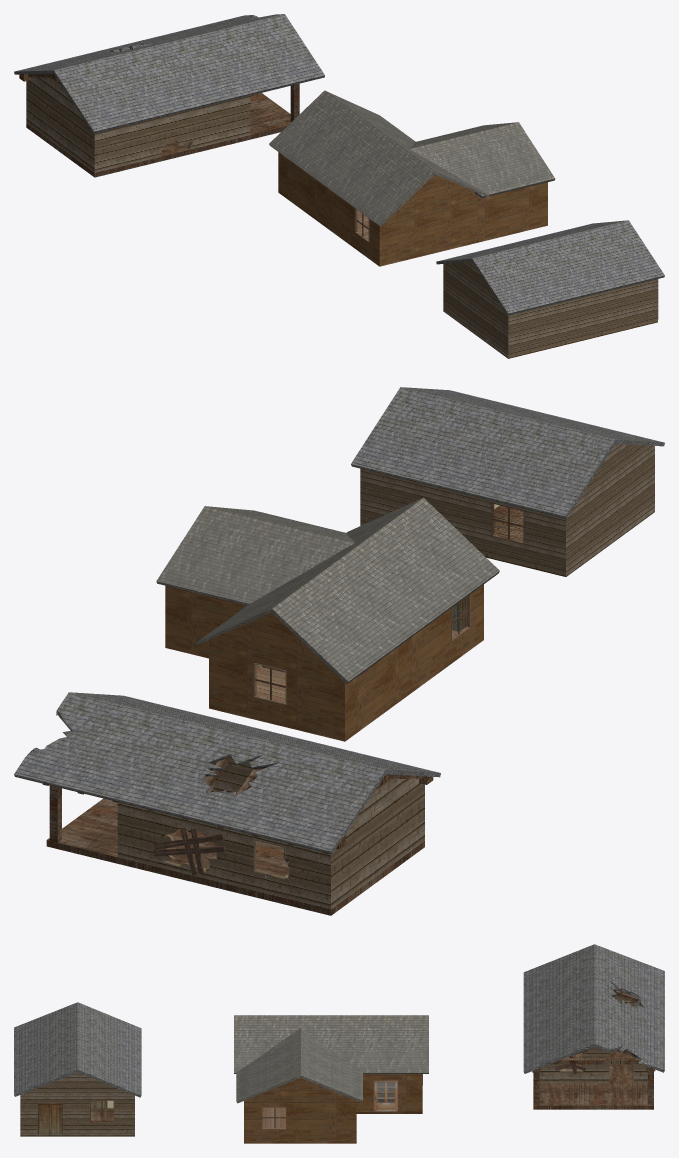
3 renders of one model, top to bottom at view 1: azimuth 30°, elevation 25°; view 2: azimuth 150°, elevation 25°; view 3: azimuth 270°, elevation 25°, orthographic. The views are drawn at different scales.
Visible parts, largest first — view 1: Destroyed house, roof.003, house002, roof, house, floor003, floor; view 2: Destroyed house, roof.003, roof, house002, house, floor003, floor, planks002; view 3: Destroyed house, roof.003, roof, house002, house, floor003, door.003, door, floor.
Part boxes in pixels (x1=…): Destroyed house: x1=14, y1=14, x2=324, y2=177; roof.003: x1=269, y1=90, x2=555, y2=226; house002: x1=278, y1=152, x2=547, y2=263; roof: x1=436, y1=220, x2=664, y2=315; house: x1=443, y1=261, x2=658, y2=355; floor003: x1=278, y1=190, x2=547, y2=266; floor: x1=443, y1=309, x2=657, y2=358; Destroyed house: x1=14, y1=692, x2=440, y2=915; roof.003: x1=156, y1=497, x2=499, y2=684; roof: x1=351, y1=387, x2=664, y2=518; house002: x1=165, y1=584, x2=483, y2=737; house: x1=360, y1=443, x2=654, y2=573; floor003: x1=165, y1=630, x2=483, y2=741; floor: x1=360, y1=505, x2=654, y2=576; planks002: x1=153, y1=827, x2=225, y2=875; Destroyed house: x1=523, y1=944, x2=664, y2=1109; roof.003: x1=234, y1=1015, x2=428, y2=1103; roof: x1=14, y1=1002, x2=141, y2=1097; house002: x1=244, y1=1074, x2=422, y2=1140; house: x1=20, y1=1072, x2=134, y2=1134; floor003: x1=244, y1=1082, x2=422, y2=1143; door.003: x1=374, y1=1081, x2=397, y2=1111; door: x1=39, y1=1104, x2=61, y2=1134; floor: x1=20, y1=1108, x2=134, y2=1136.
Bounding box in the file's own units: 12.56 × 3.57 × 26.85.
28 materials, 28 textured.
